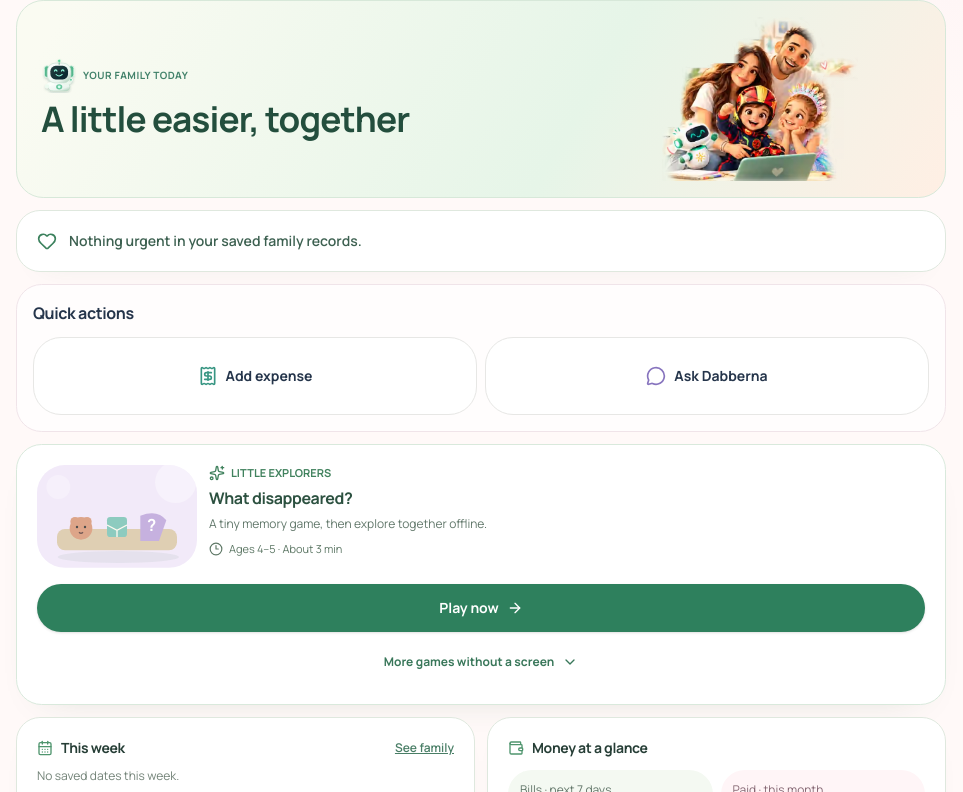
Test: Calm contextual Today redesign › keeps weekly games inside Today without adding a new family workspace or saving child activity data
Click the button "More games without a screen" at (481, 662), box [37,640,925,684]
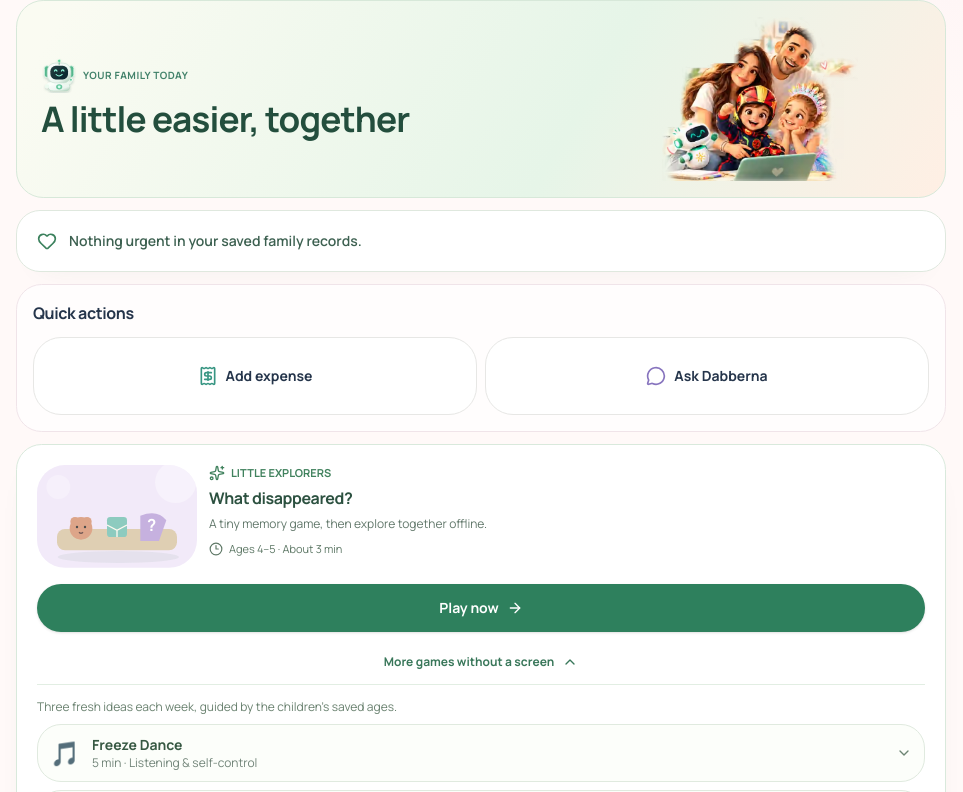
Click the button "🎵 Freeze Dance 5 min · Listening & self-control" at (137, 745), box [38,725,924,781]
(page scrolled)
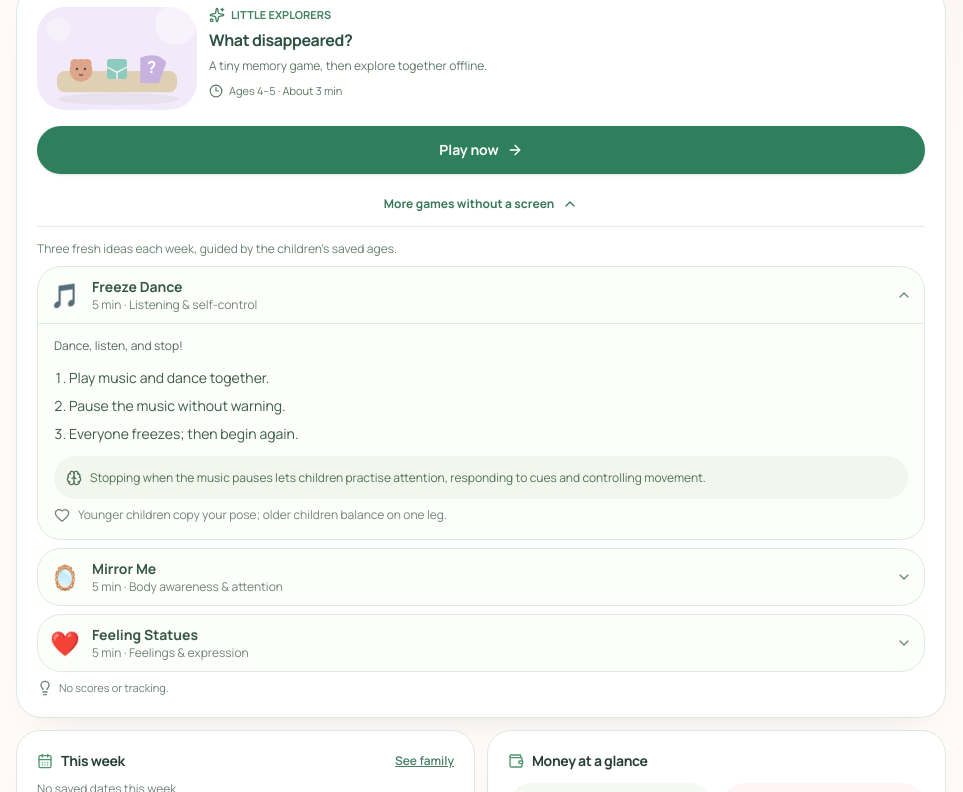
Expected: the list is shown, [69,368,298,443]
